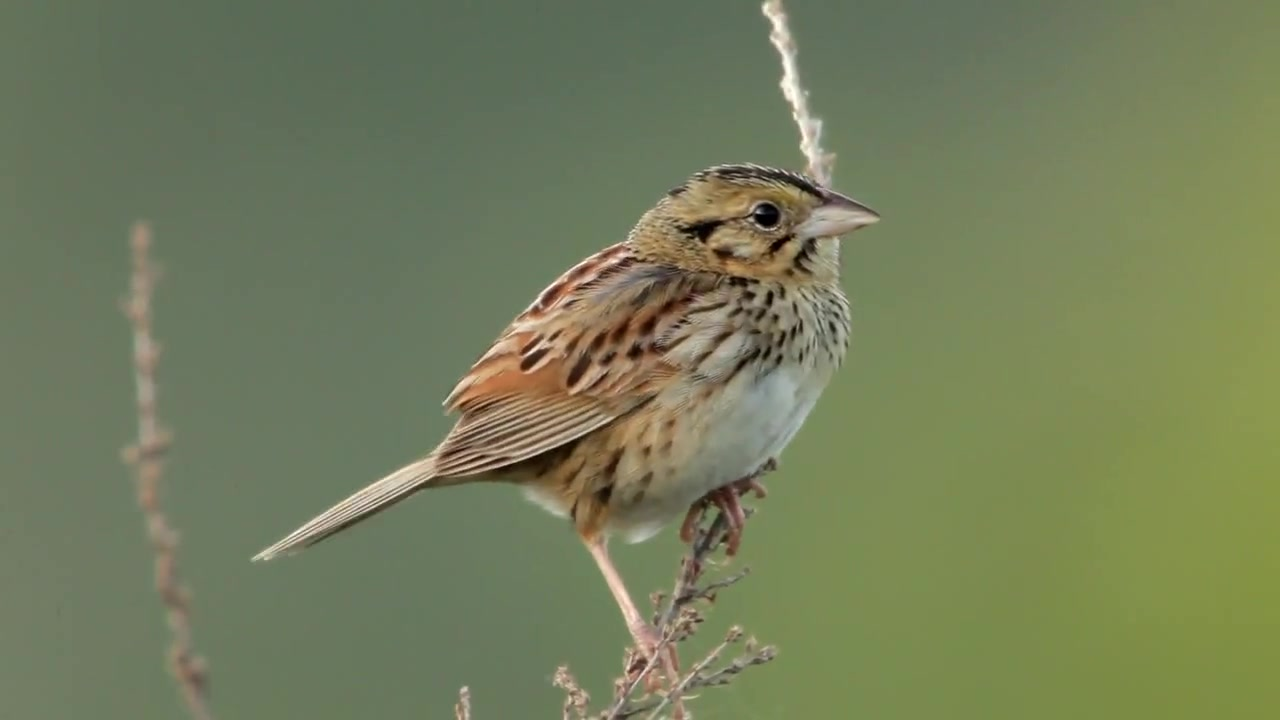bird: (249, 163, 885, 688)
